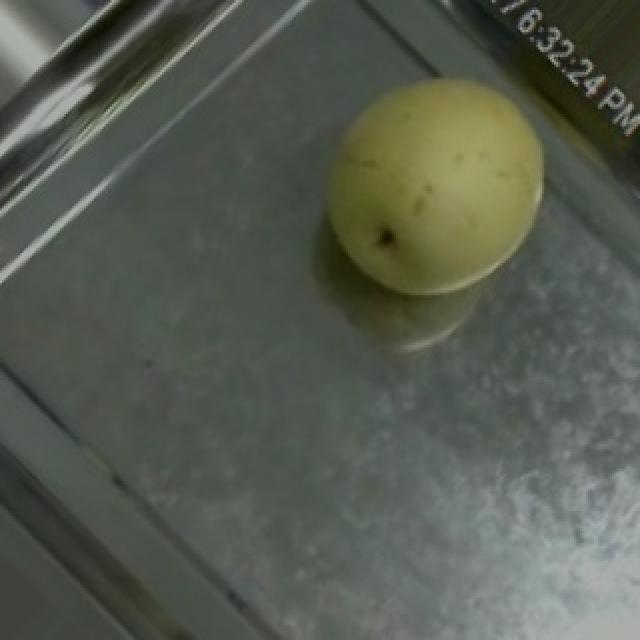Fruit: (276, 30, 590, 332)
